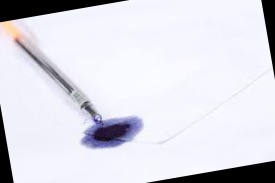ink: (80, 117, 142, 148)
